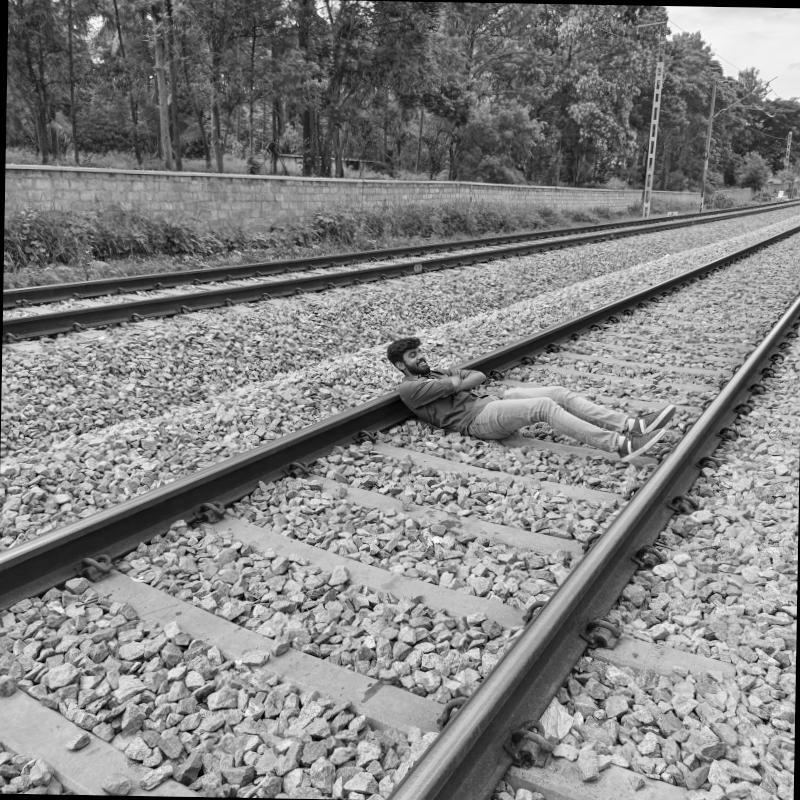sleeping: (381, 332, 689, 468)
